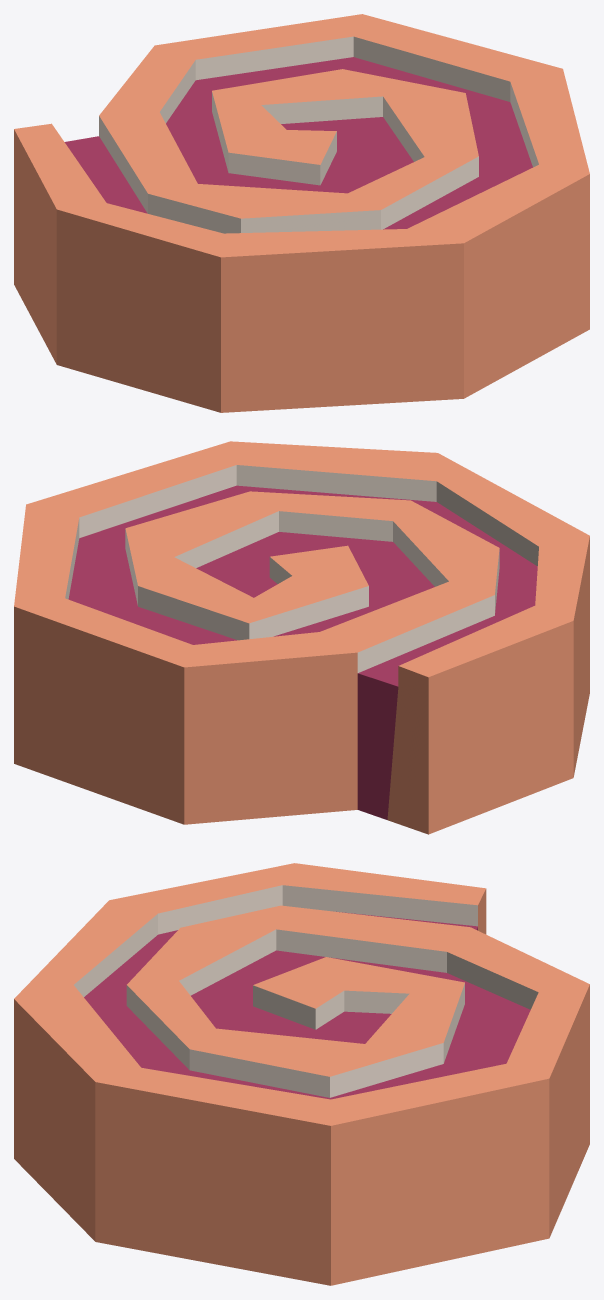
Rendered from Roll.fbx.
3 views of the same model, one above another, from view 1: azimuth 30°, elevation 25°; view 2: azimuth 150°, elevation 25°; view 3: azimuth 270°, elevation 25° (orthographic). The views are drawn at different scales.
Visible parts, largest first — view 1: Roll; view 2: Roll; view 3: Roll.
Part boxes in pixels (bbox=[...]): Roll: bbox=[14, 14, 589, 412]; Roll: bbox=[14, 441, 589, 834]; Roll: bbox=[14, 863, 589, 1285].
Bounding box in the file's own units: 68.14 × 19.33 × 63.11.
